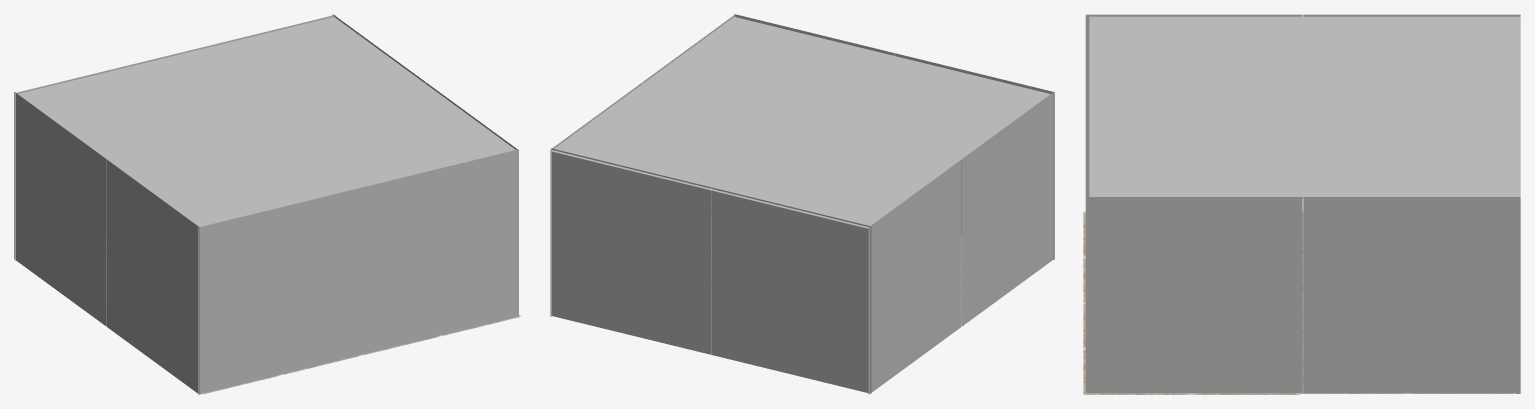
Rendered from main_menu.fbx.
The picture shows the model from 3 angles, left to right: view 1: azimuth 30°, elevation 25°; view 2: azimuth 150°, elevation 25°; view 3: azimuth 270°, elevation 25°; orthographic projection. The views are drawn at different scales.
Visible parts, largest first — view 1: Plane.005, Plane.004, Plane.007, Plane.006, Plane.014, Plane.015, Plane.008, Plane.013, Plane.011; view 2: Plane.011, Plane.009, Plane.006, Plane.007, Plane.015, Plane.014, Plane.013, Plane.008, Plane.005, Plane.004, Plane.012; view 3: Plane.012, Plane.010, Plane.014, Plane.015, Plane.013, Plane.008, Plane.007, Plane.003, Plane.006, Plane.002.
Boxes of the visible parts, x1,y1,x2,y2 form: Plane.005: (198, 188, 358, 394); Plane.004: (358, 149, 518, 355); Plane.007: (107, 160, 199, 394); Plane.006: (14, 92, 106, 326); Plane.014: (16, 54, 266, 160); Plane.015: (108, 121, 357, 226); Plane.008: (175, 15, 424, 121); Plane.013: (268, 83, 515, 188); Plane.011: (15, 54, 175, 260); Plane.011: (711, 187, 871, 393); Plane.009: (551, 148, 710, 354); Plane.006: (868, 160, 960, 394); Plane.007: (961, 92, 1053, 326); Plane.015: (801, 55, 1050, 161); Plane.014: (708, 122, 957, 228); Plane.013: (642, 17, 891, 121); Plane.008: (551, 84, 799, 189); Plane.005: (894, 53, 1054, 259); Plane.004: (734, 14, 894, 55); Plane.012: (550, 82, 642, 316); Plane.012: (1303, 197, 1520, 393); Plane.010: (1085, 197, 1302, 393); Plane.014: (1303, 16, 1520, 108); Plane.015: (1089, 16, 1306, 108); Plane.013: (1089, 108, 1306, 198); Plane.008: (1303, 108, 1520, 196); Plane.007: (1085, 14, 1302, 196); Plane.003: (1083, 303, 1300, 394); Plane.006: (1303, 14, 1520, 16); Plane.002: (1298, 302, 1515, 393).
Bounding box in the file's own units: 402 × 200 × 403.
